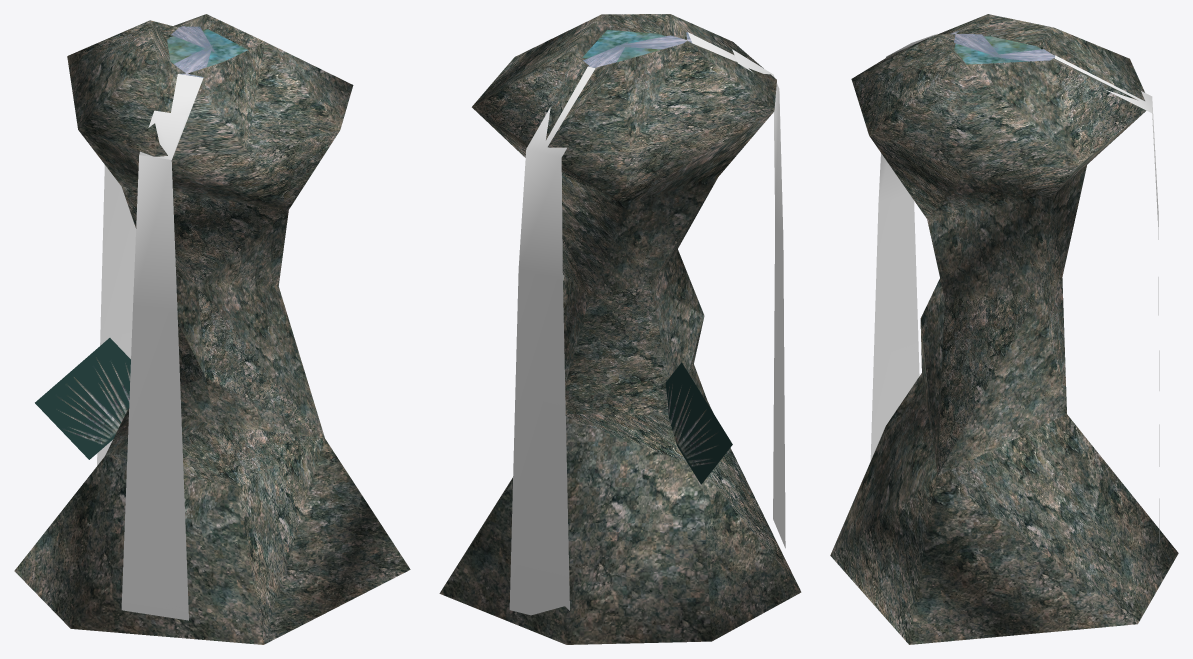
The model's file is rock_crystl_geyser_sm_l4.fbx.
3 views of the same model, side by side, from view 1: azimuth 30°, elevation 25°; view 2: azimuth 150°, elevation 25°; view 3: azimuth 270°, elevation 25° (orthographic). The views are drawn at different scales.
Parts seen in each view (by area): view 1: mesh_node; view 2: mesh_node; view 3: mesh_node.
Boxes of the visible parts, left/top/right/bottom form: mesh_node: left=14, top=14, right=410, bottom=644; mesh_node: left=439, top=14, right=801, bottom=644; mesh_node: left=830, top=14, right=1178, bottom=644.
Size of the model in its own units: 10.55 by 17.27 by 10.32.
